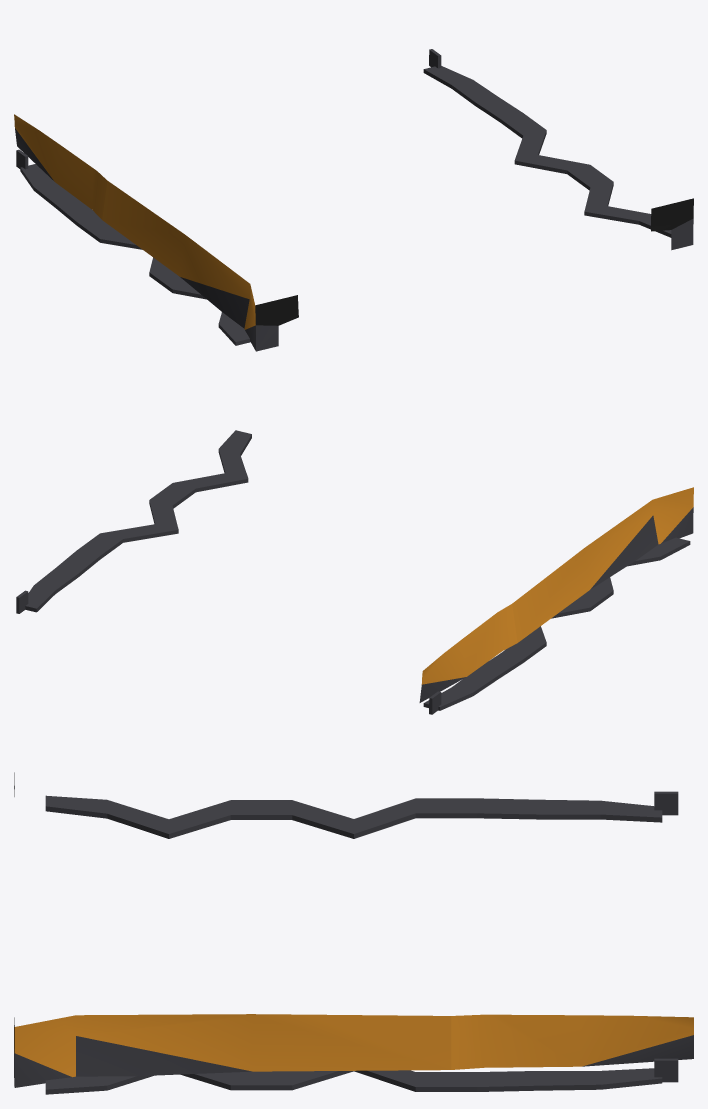
The model's file is protoHatch_sideSkirts_kurogane.glb.
3 renders of one model, top to bottom at view 1: azimuth 30°, elevation 25°; view 2: azimuth 150°, elevation 25°; view 3: azimuth 270°, elevation 25°, orthographic. The views are drawn at different scales.
Parts seen in each view (by area): view 1: sideSkirts_kurogane; view 2: sideSkirts_kurogane; view 3: sideSkirts_kurogane.
Part boxes in pixels (x1=…): sideSkirts_kurogane: x1=14, y1=49, x2=693, y2=351; sideSkirts_kurogane: x1=16, y1=430, x2=693, y2=714; sideSkirts_kurogane: x1=14, y1=772, x2=693, y2=1094.
Bounding box in the file's own units: 1.76 × 0.1746 × 1.72.
